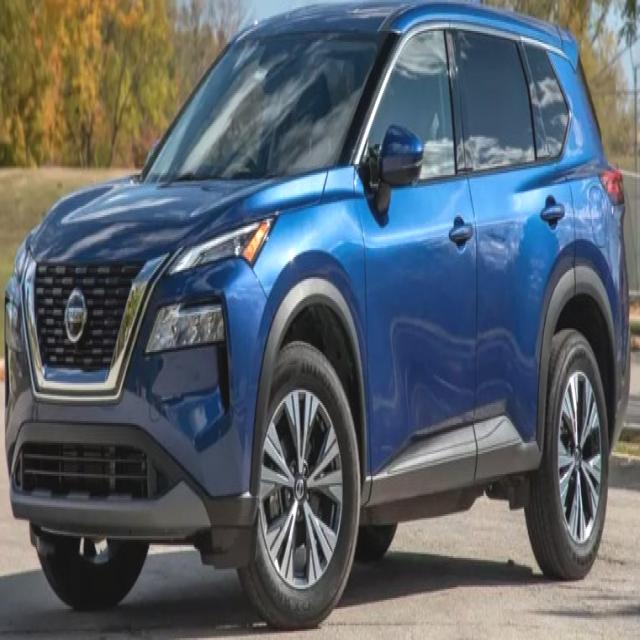blue: (7, 0, 629, 619)
